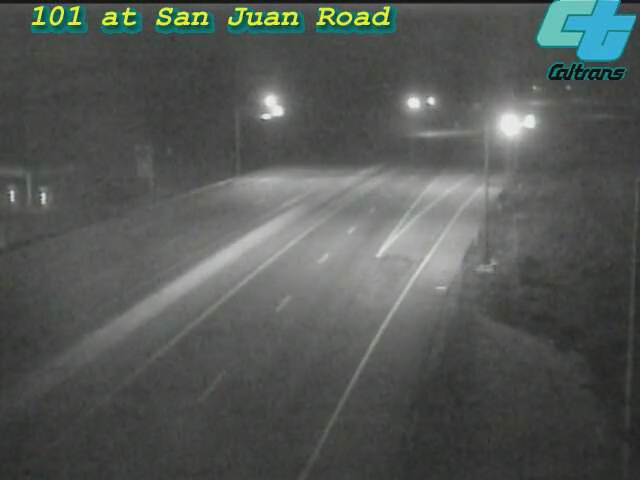vehicle: (482, 99, 532, 149), (504, 96, 554, 146)
